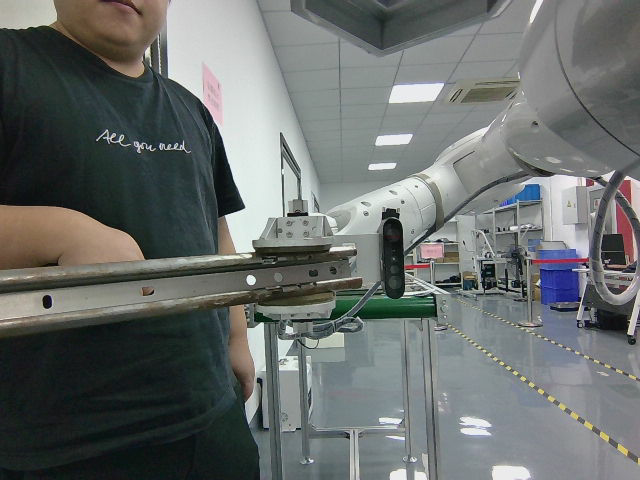left: (5, 237, 362, 325)
